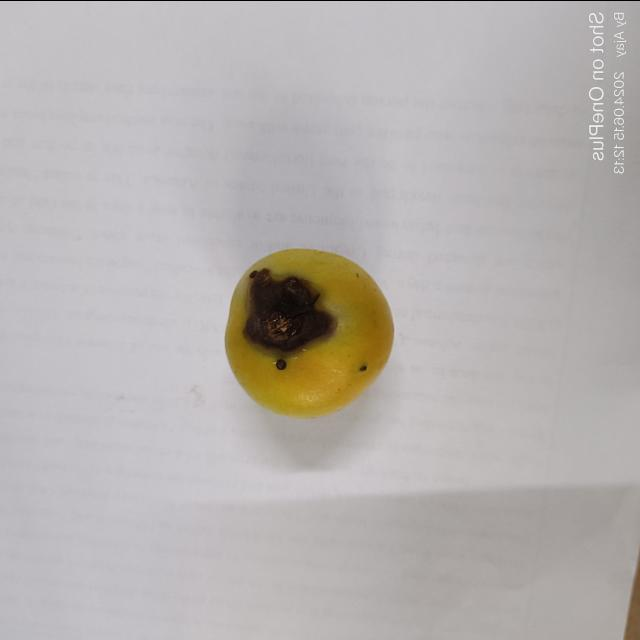Anthrocnose: (242, 268, 338, 368)
